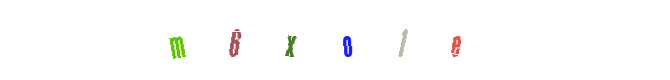1: (295, 0, 375, 80)
6: (250, 0, 330, 80)
E: (307, 0, 387, 80)
M: (137, 0, 217, 80)
O: (295, 0, 375, 80)
X: (282, 0, 362, 80)
